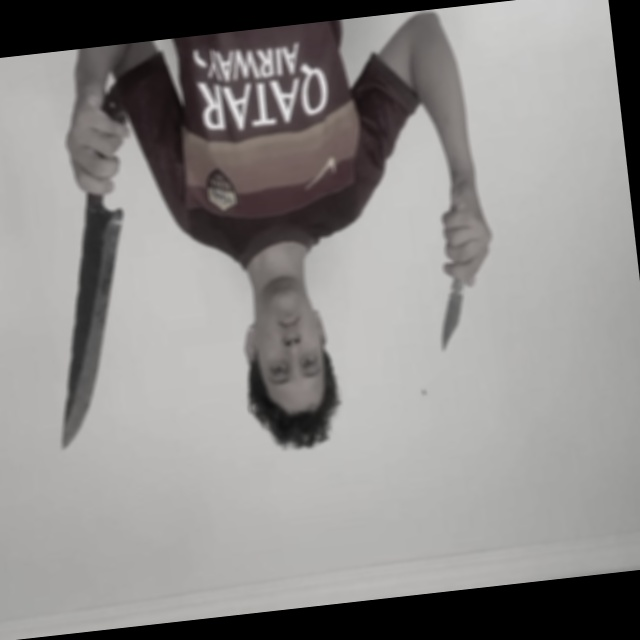Sharp-Object: (35, 207, 152, 452), (434, 283, 471, 353)
